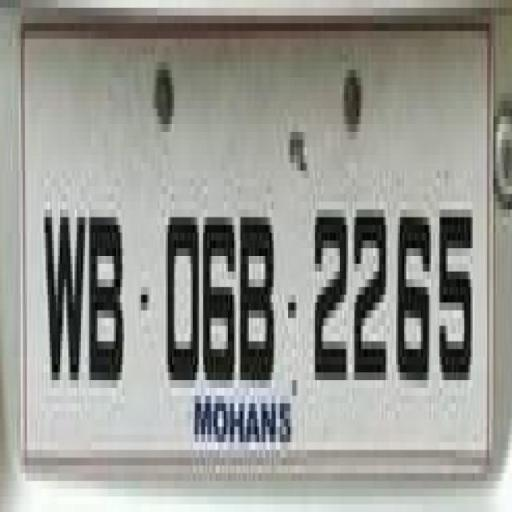number plate: (18, 16, 512, 473)
